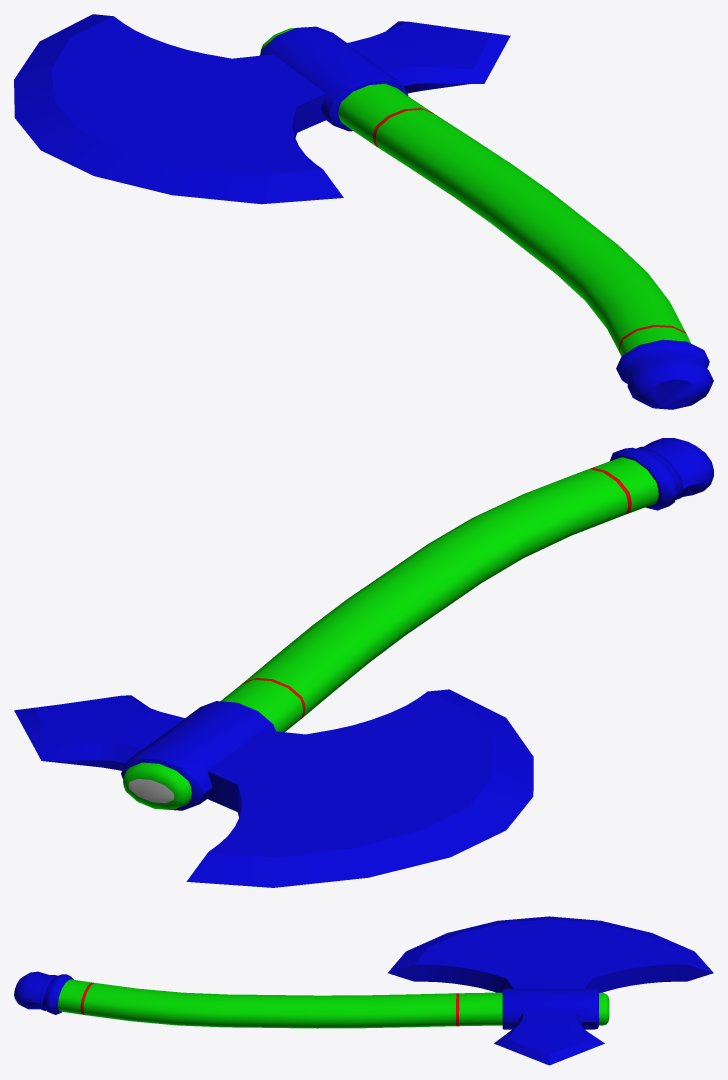
The model's file is sm_Steel_Axe.fbx.
3 renders of one model, top to bottom at view 1: azimuth 30°, elevation 25°; view 2: azimuth 150°, elevation 25°; view 3: azimuth 270°, elevation 25°, orthographic. The views are drawn at different scales.
Visible parts, largest first — view 1: Steel_Axe; view 2: Steel_Axe; view 3: Steel_Axe.
Part boxes in pixels (<box>): Steel_Axe: <box>14,14,713,409</box>; Steel_Axe: <box>14,438,713,887</box>; Steel_Axe: <box>14,916,713,1065</box>.
Size of the model in its own units: 40.44 by 4.17 by 80.23.
